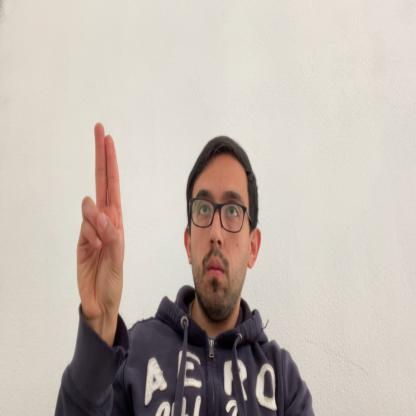U: (76, 122, 124, 320)
